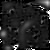node: (36, 1, 50, 8), (1, 29, 8, 39), (3, 3, 13, 10), (5, 46, 12, 50)
